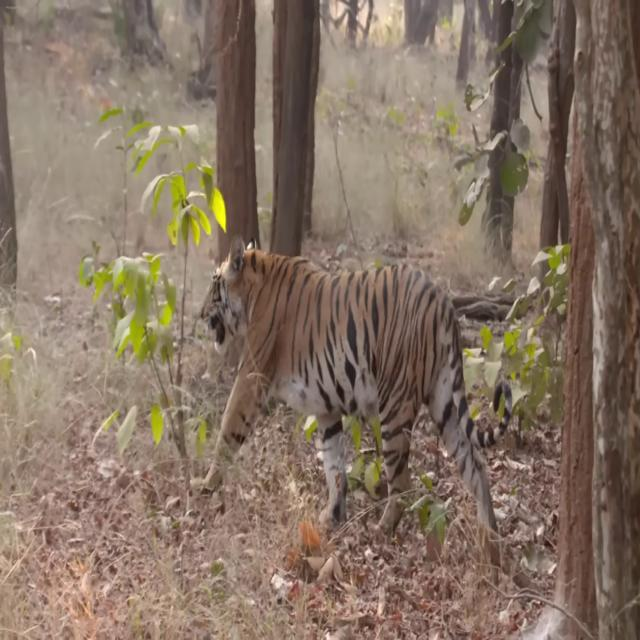tiger: (198, 233, 514, 566)
